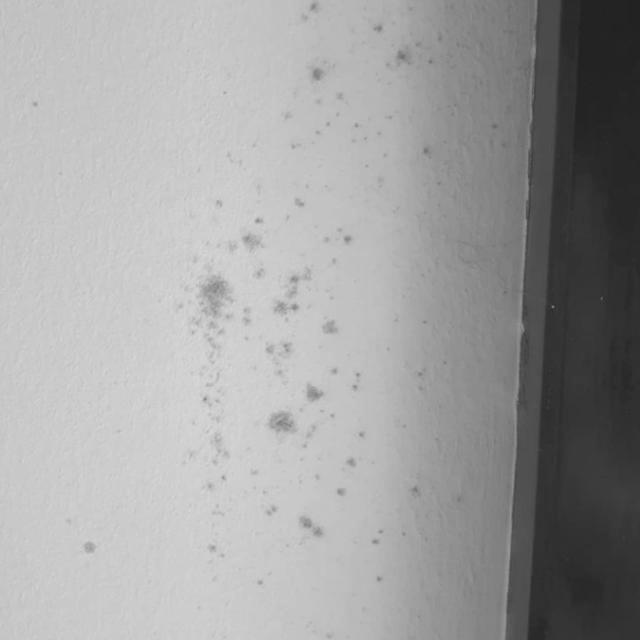stain marks: (186, 3, 469, 584), (52, 501, 110, 572), (476, 99, 519, 160), (8, 94, 41, 133)
